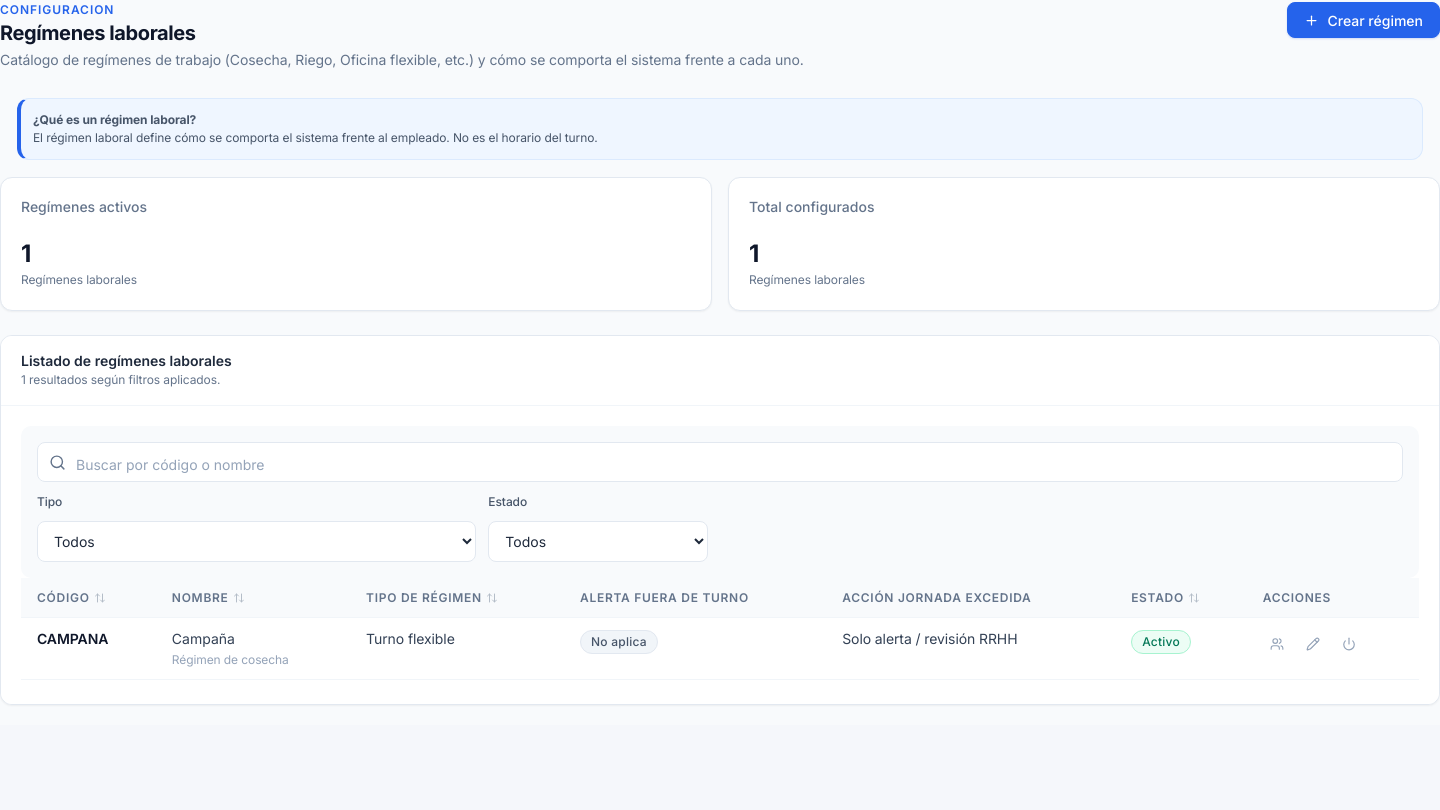
Test: WorkRegimesPage — Etapa 10D (alerta de jornada extendida) › al editar un régimen existente con el campo ya seteado, lo precarga en horas (no lo pisa con vacío)
Check: the text "CAMPANA" is shown, box 37,630 -> 108,647
Click the button named "Editar régimen": (1313, 644) 1299,630 -> 1327,658
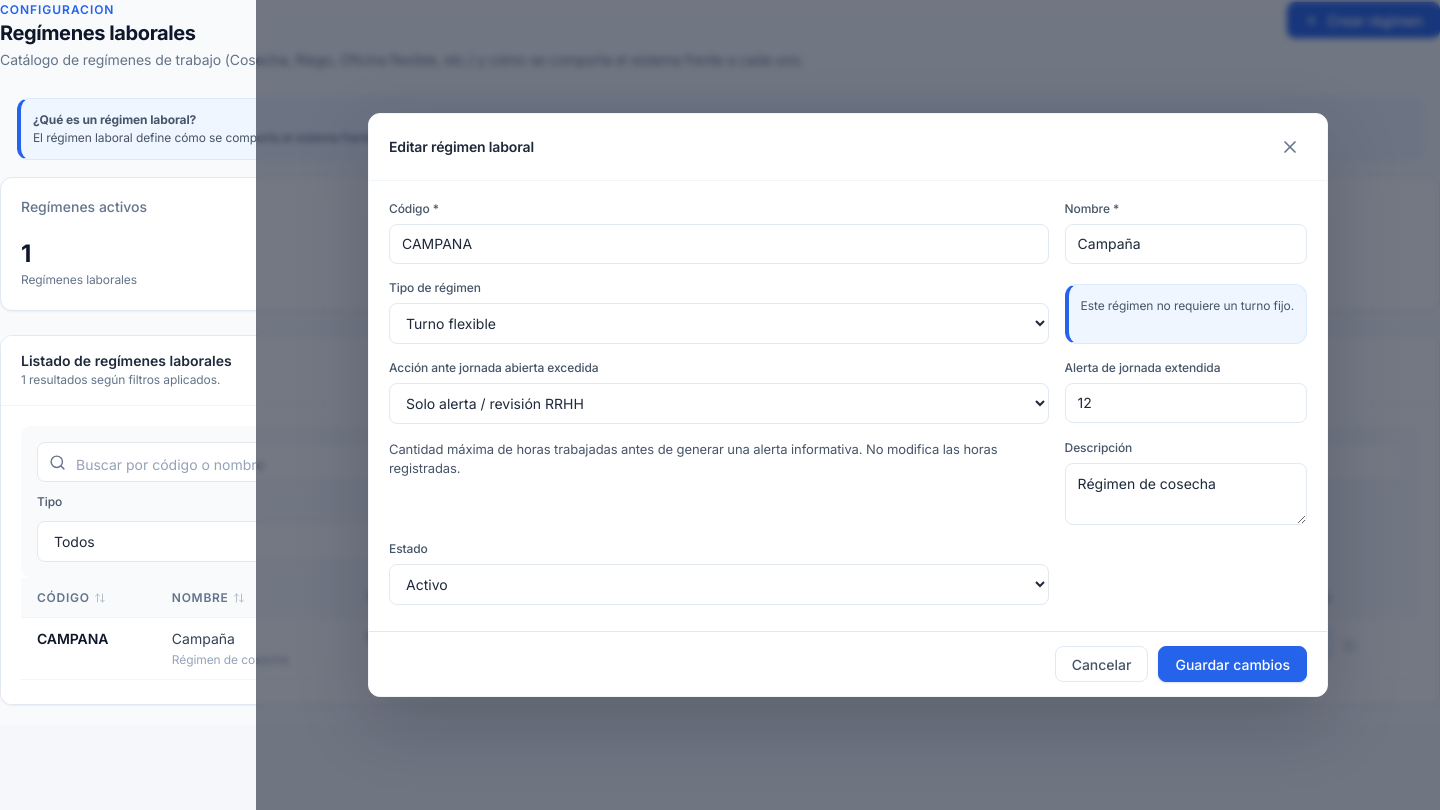
Check: the number field labelled "Alerta de jornada extendida" holds "12", box 1065,383 -> 1307,423
